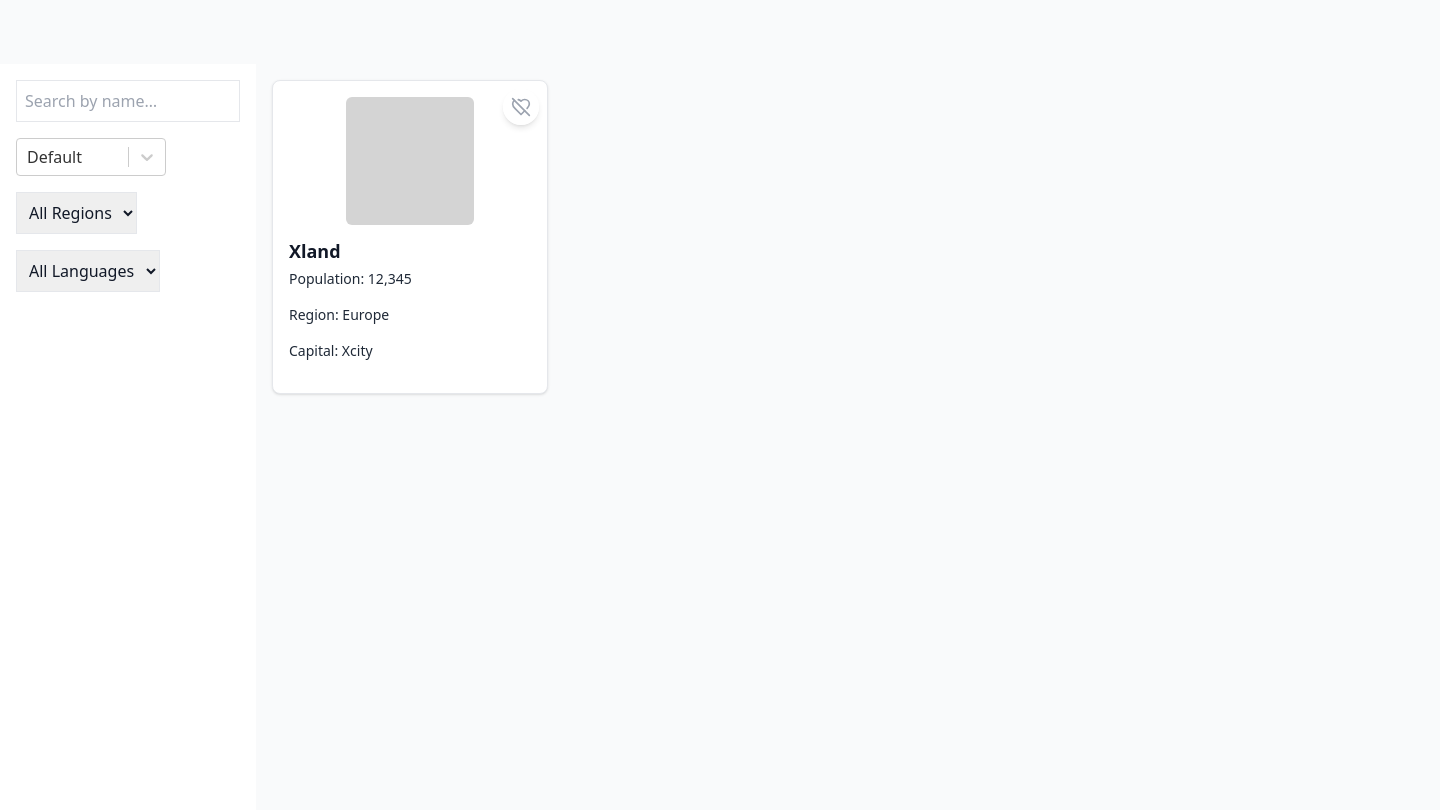
Test: Home page (axios mock) › renders a country card and opens detail modal
# Wait for the "Xland" card, then click it
Click the heading "Xland": x=315, y=251 [289,239,341,263]
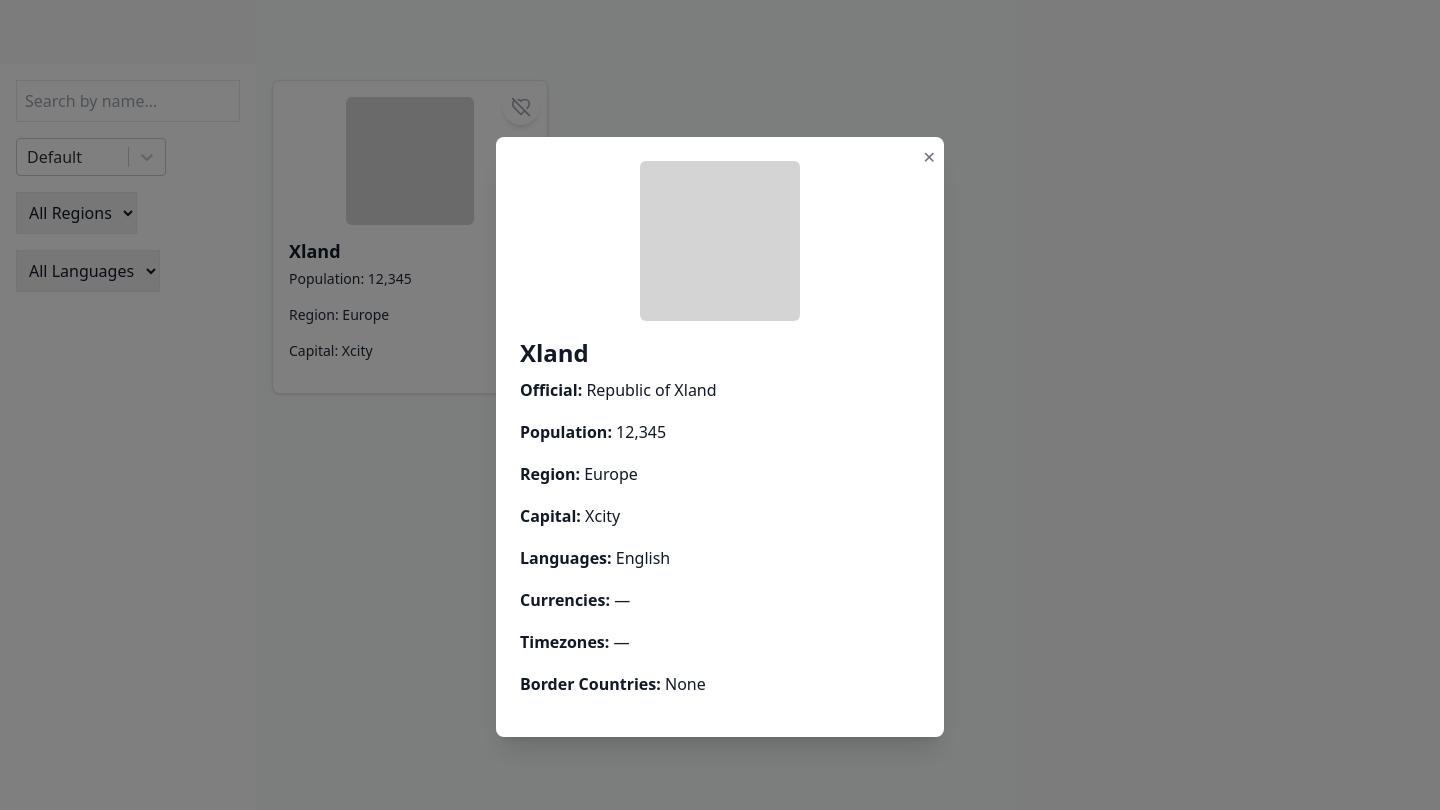
Check: the element with test id "modal-official" shows "Republic of Xland", box [586,379,717,401]
Check: the element with test id "modal-region" shows "Europe", box [584,463,638,485]
Check: the element with test id "modal-capital" shows "Xcity", box [585,505,620,527]
